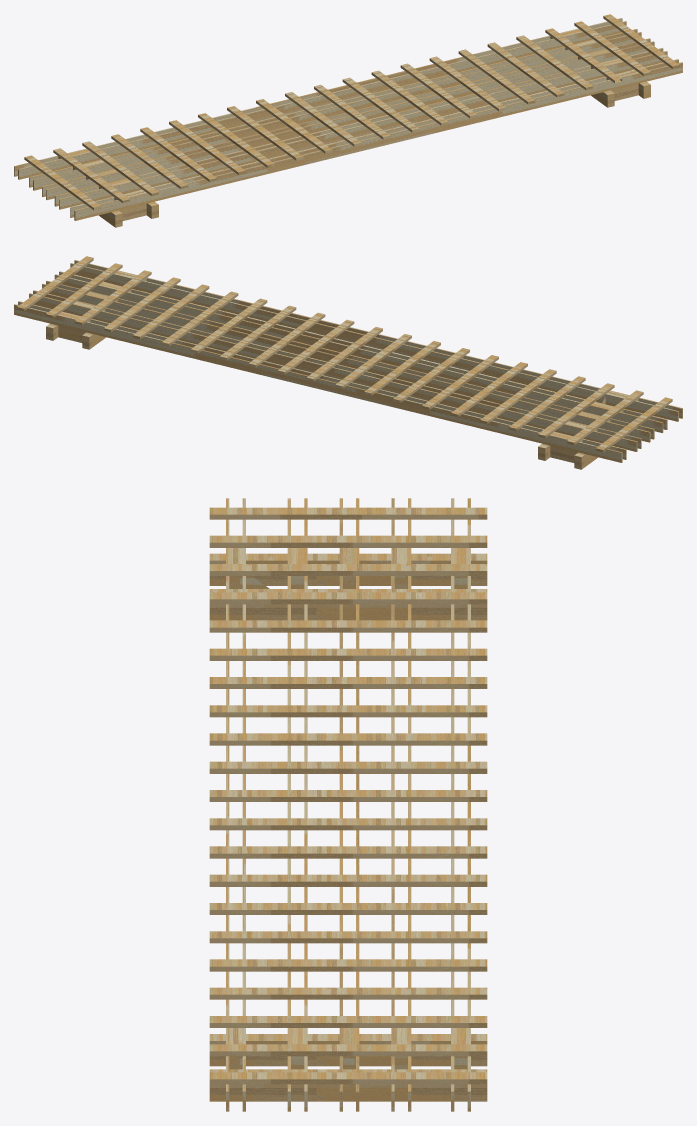
File: ARC0810029.fbx
The picture shows the model from 3 angles, top to bottom: view 1: azimuth 30°, elevation 25°; view 2: azimuth 150°, elevation 25°; view 3: azimuth 270°, elevation 25°; orthographic projection. The views are drawn at different scales.
Parts seen in each view (by area): view 1: smARC0810029; view 2: smARC0810029; view 3: smARC0810029.
Boxes of the visible parts, x1,y1,x2,y2 form: smARC0810029: (14, 14, 682, 227); smARC0810029: (14, 256, 682, 469); smARC0810029: (209, 498, 487, 1111).
Bounding box in the file's own units: 1122 × 44.4 × 222.
Materials: 1 (1 with a texture image).
